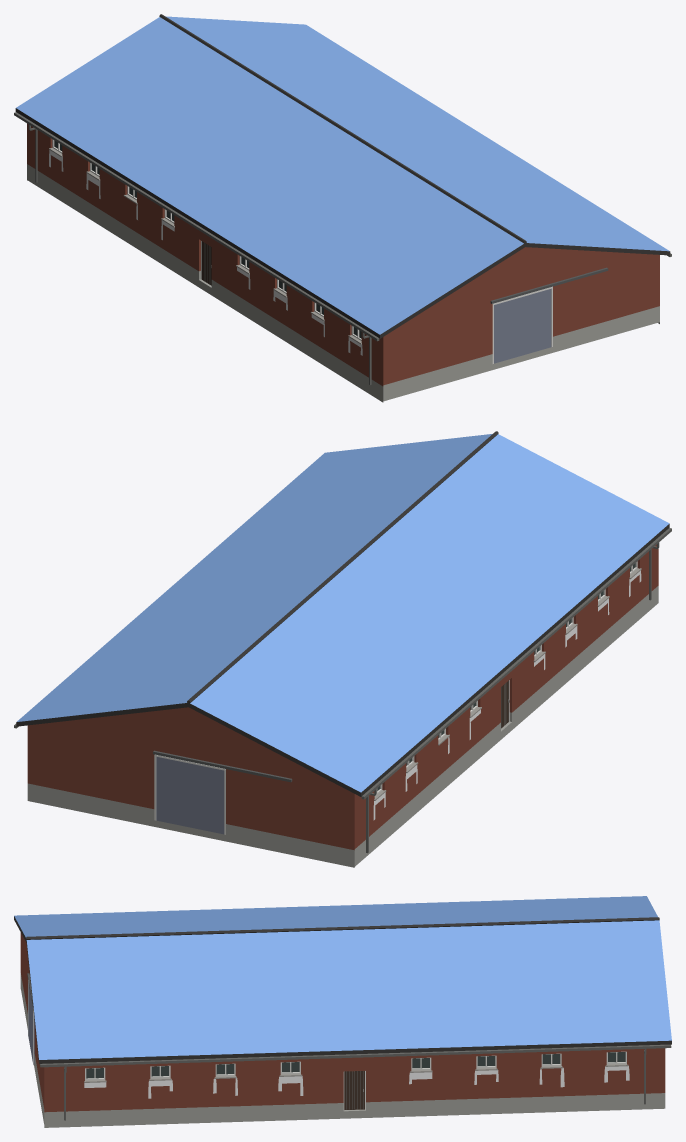
File: fb_stable_m12.glb
3 renders of one model, top to bottom at view 1: azimuth 30°, elevation 25°; view 2: azimuth 150°, elevation 25°; view 3: azimuth 270°, elevation 25°, orthographic. The views are drawn at different scales.
Visible parts, largest first — view 1: vh_roof, vh_brick, vh_plinth, vh_trim, vh_door, vh_frames_small, vh_streaks_small; view 2: vh_roof, vh_brick, vh_plinth, vh_trim, vh_door, vh_frames_small, vh_streaks_small; view 3: vh_roof, vh_brick, vh_plinth, vh_trim, vh_frames_small, vh_glass, vh_streaks_small, vh_stone, vh_door.
Part boxes in pixels (x1,y1,x2,y2): vh_roof: (16,16,669,334); vh_brick: (27,123,659,386); vh_plinth: (27,164,659,402); vh_trim: (15,14,670,363); vh_door: (494,289,551,363); vh_frames_small: (14,112,671,384); vh_streaks_small: (49,150,362,355); vh_roof: (17,434,669,792); vh_brick: (27,544,658,850); vh_plinth: (27,586,658,867); vh_trim: (16,431,669,834); vh_door: (156,755,224,834); vh_frames_small: (14,528,671,853); vh_streaks_small: (373,570,641,820); vh_roof: (14,896,671,1059); vh_brick: (20,932,665,1112); vh_plinth: (20,973,665,1127); vh_trim: (14,916,671,1109); vh_frames_small: (40,1044,671,1120); vh_glass: (86,1052,625,1078); vh_streaks_small: (84,1065,629,1098); vh_stone: (84,1063,628,1082); vh_door: (28,982,34,1064).
Size of the model in its own units: 19.27 by 6.6 by 32.21.
